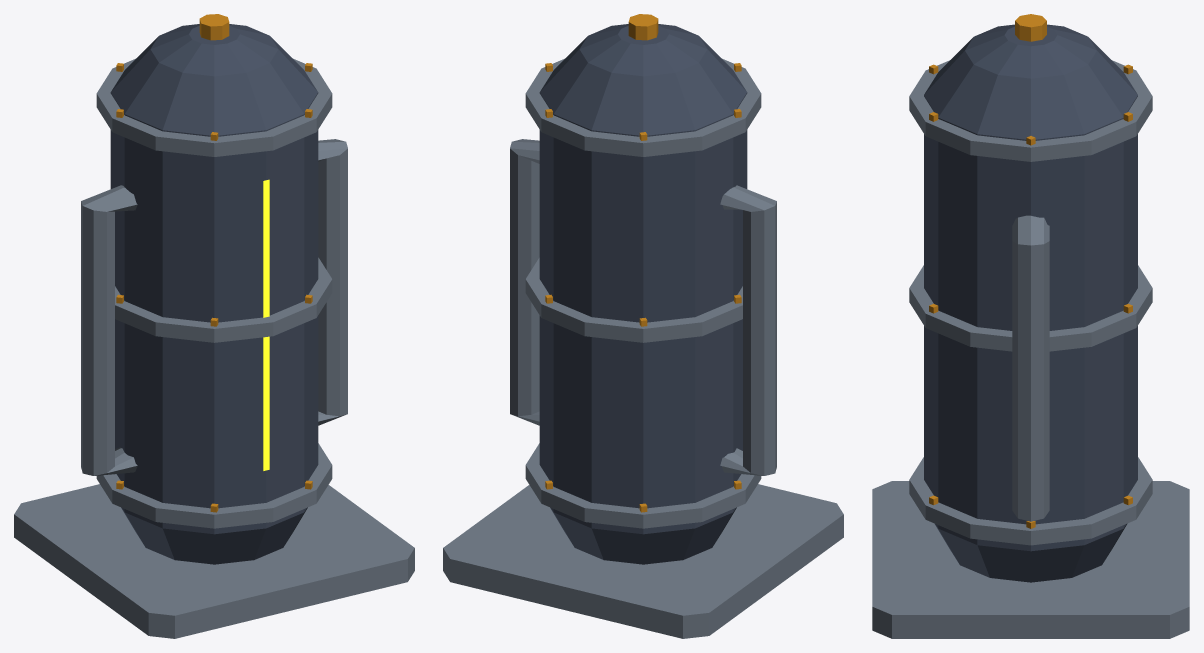
The model's file is fus_heat_exchanger_tower.glb.
3 views of the same model, side by side, from view 1: azimuth 30°, elevation 25°; view 2: azimuth 150°, elevation 25°; view 3: azimuth 270°, elevation 25° (orthographic). The views are drawn at different scales.
Parts seen in each view (by area): view 1: pressure_column, bolted_flange, thermal_sensor_strip, flange_bolt; view 2: pressure_column, bolted_flange, flange_bolt; view 3: pressure_column, bolted_flange, flange_bolt.
Boxes of the visible parts, bbox=[...] form: pressure_column: bbox=[110, 24, 318, 564]; bolted_flange: bbox=[14, 58, 414, 638]; thermal_sensor_strip: bbox=[263, 179, 269, 470]; flange_bolt: bbox=[116, 14, 312, 512]; pressure_column: bbox=[539, 24, 747, 564]; bolted_flange: bbox=[443, 58, 843, 638]; flange_bolt: bbox=[545, 14, 741, 512]; pressure_column: bbox=[924, 24, 1137, 582]; bolted_flange: bbox=[872, 60, 1189, 638]; flange_bolt: bbox=[929, 14, 1132, 528].
Bounding box in the file's own units: 2.4 × 4.6 × 2.4.
